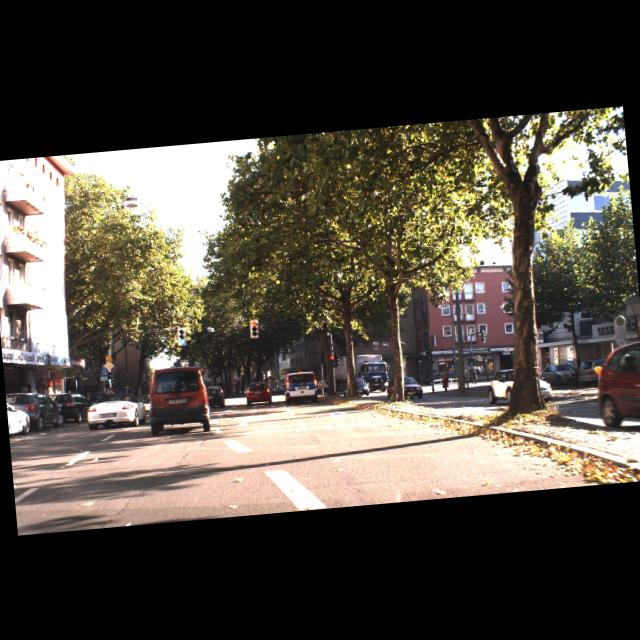other: (104, 360, 115, 370)
